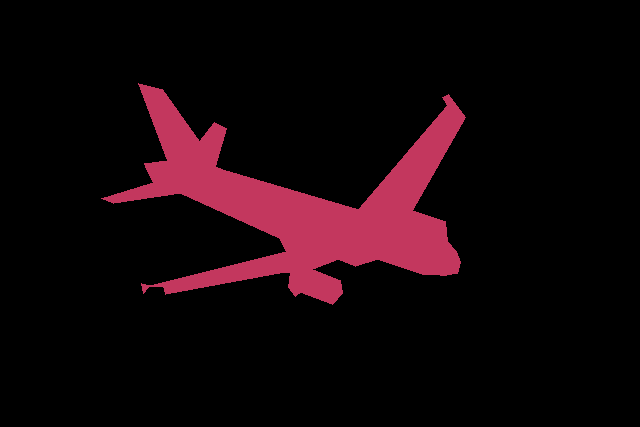Airplane: (101, 83, 465, 304)
